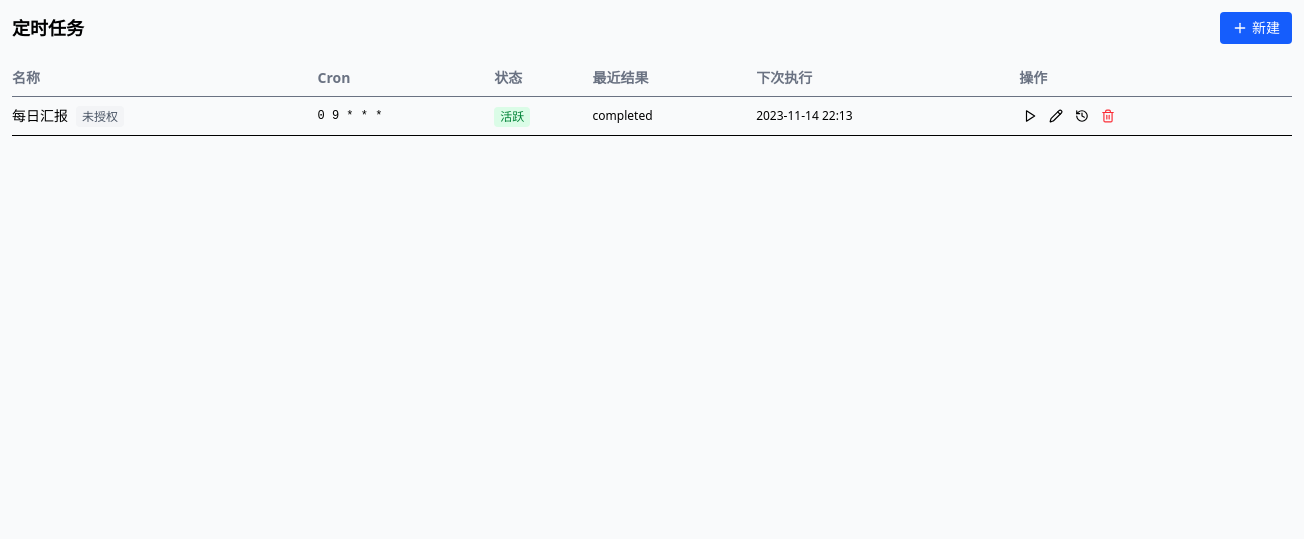
it: Cron 页 › 编辑时用现有 payload 回填表单
Click the button named "编辑定时任务 每日汇报": (1056, 116) x1=1045 y1=105 x2=1067 y2=127
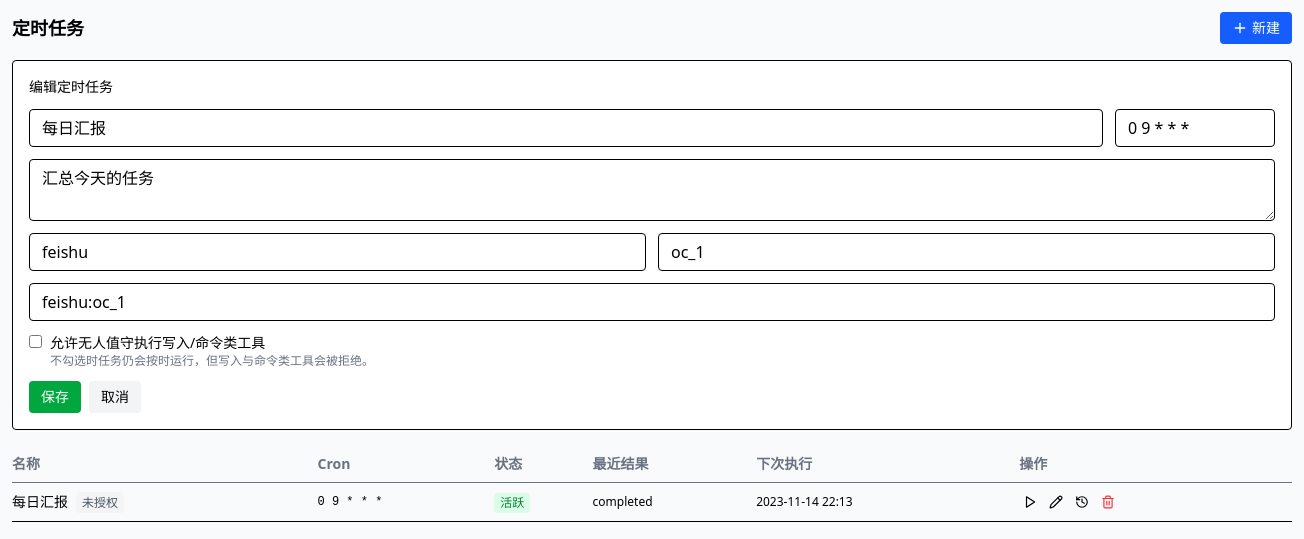
Check: the heading "编辑定时任务" is shown, box x1=29 y1=77 x2=113 y2=96
Check: the field named "任务名称" holds "每日汇报", box x1=29 y1=109 x2=1103 y2=147
Check: the field named "cron 表达式" holds "0 9 * * *", box x1=1115 y1=109 x2=1275 y2=147
